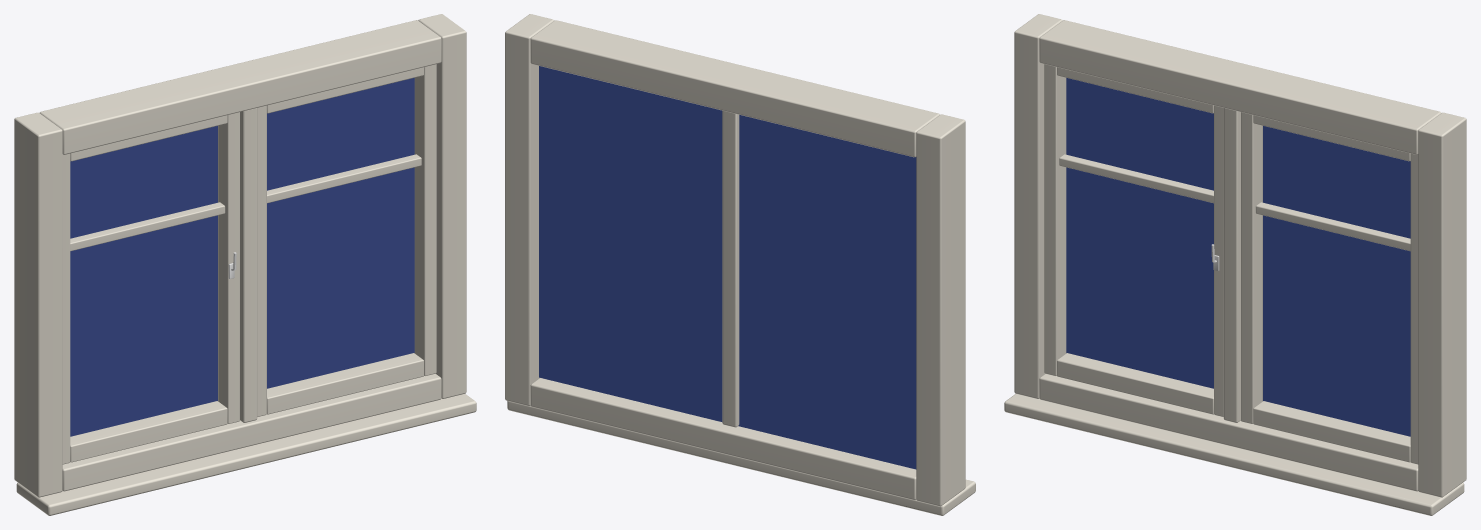
File: SM_Window.glb
3 renders of one model, left to right at view 1: azimuth 30°, elevation 25°; view 2: azimuth 150°, elevation 25°; view 3: azimuth 330°, elevation 25°, orthographic.
Visible parts, largest first — view 1: SM_Window; view 2: SM_Window; view 3: SM_Window.
Boxes of the visible parts, x1,y1,x2,y2 form: SM_Window: (14, 14, 476, 515); SM_Window: (505, 14, 975, 515); SM_Window: (1004, 14, 1466, 515).
Bounding box in the file's own units: 1.2 × 1 × 0.17.
